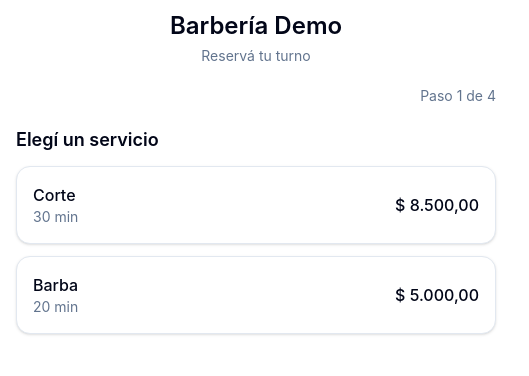
Test: public booking site › only offers the professionals who perform the chosen service, plus "any available"
Click the button "Barba 20 min $ 5.000,00" at {"x": 56, "y": 285}, box x1=16 y1=256 x2=496 y2=334
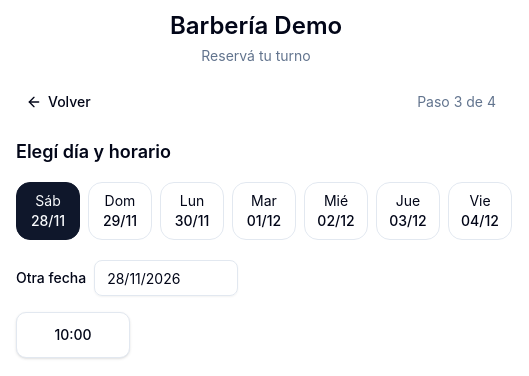
Now the heading "Elegí día y horario" is shown, box x1=16 y1=141 x2=171 y2=162
